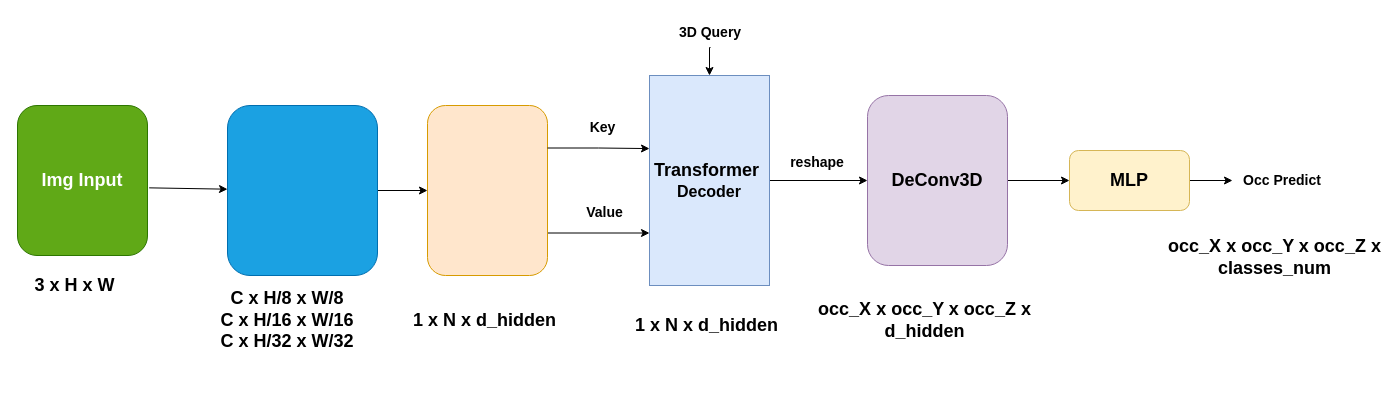
Image size: 1399x412. Some labels were removed from this diagram. The box of each missing label's shape, as (x1, y1, x2, y2) in pixels:
Img Backbone (resnet/regnet...): (226, 104, 378, 276)
Tokenizer: (426, 104, 548, 276)
